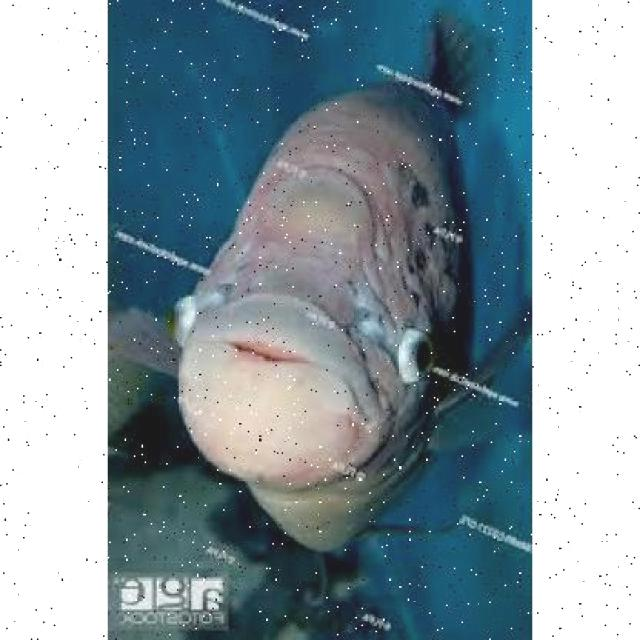gurame: (152, 26, 534, 574)
